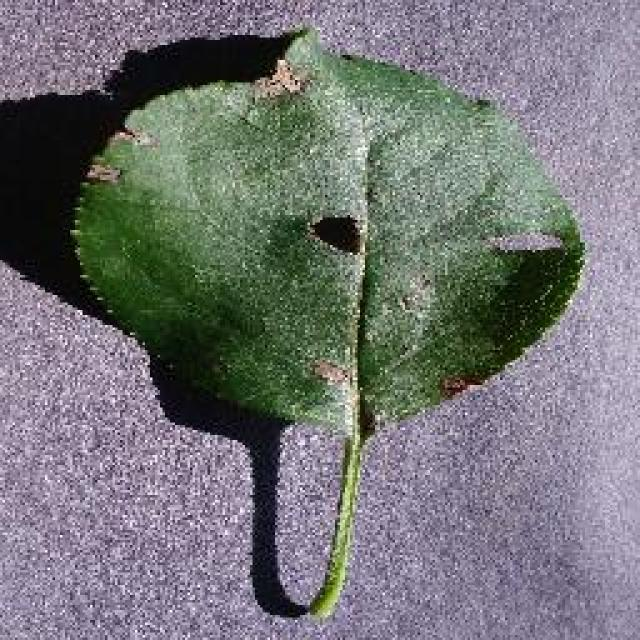Black_rot: (67, 22, 585, 618)
